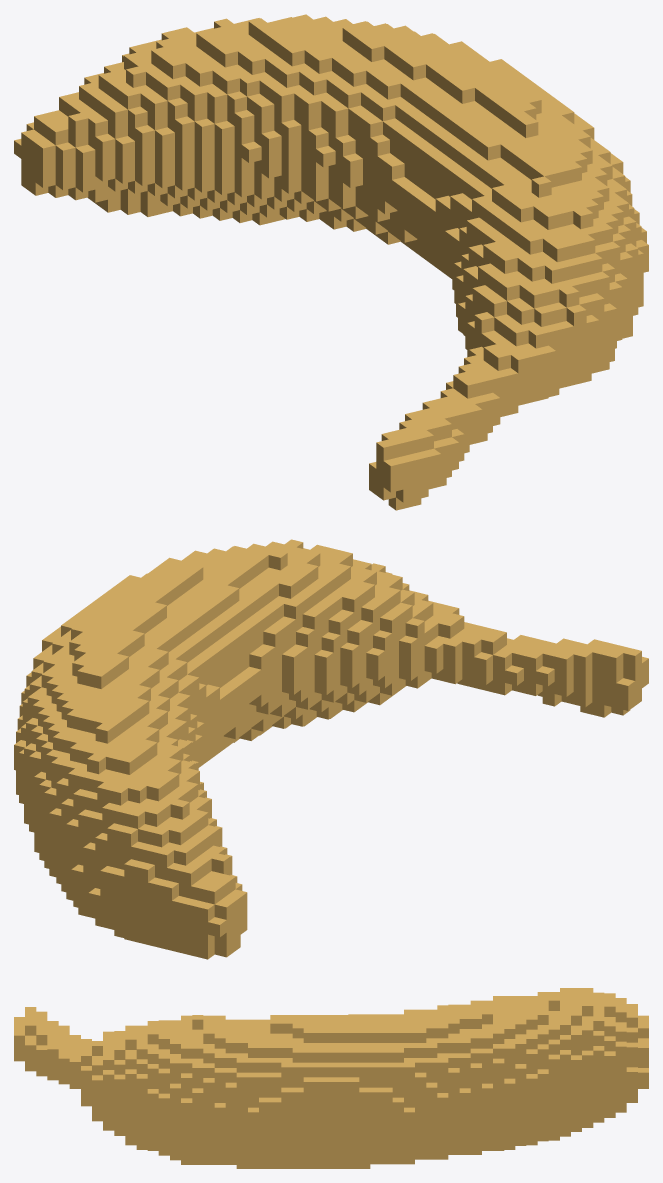
File: banana-transformed.glb
3 views of the same model, one above another, from view 1: azimuth 30°, elevation 25°; view 2: azimuth 150°, elevation 25°; view 3: azimuth 270°, elevation 25° (orthographic). The views are drawn at different scales.
Parts seen in each view (by area): view 1: banana; view 2: banana; view 3: banana.
Boxes of the visible parts, <box> form: banana: <box>14,14,648,510</box>; banana: <box>14,539,648,959</box>; banana: <box>14,988,648,1168</box>.
Size of the model in its own units: 19.75 by 9.56 by 36.31.
